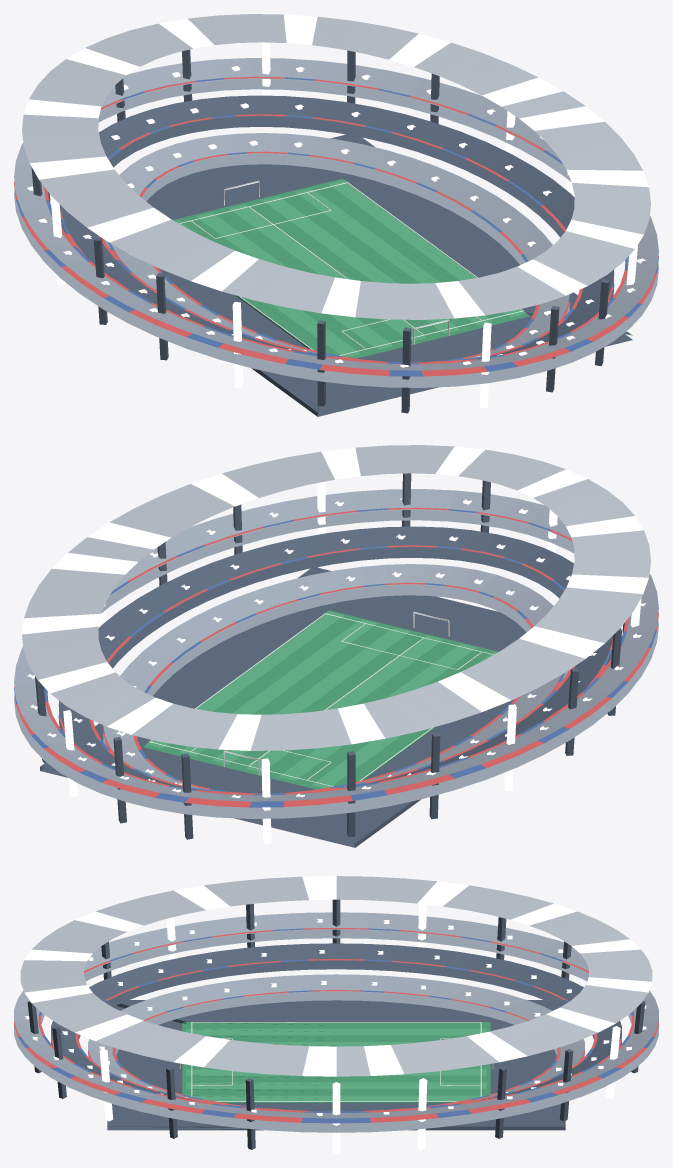
The model's file is parc-des-princes.glb.
3 renders of one model, top to bottom at view 1: azimuth 30°, elevation 25°; view 2: azimuth 150°, elevation 25°; view 3: azimuth 270°, elevation 25°, orthographic. The views are drawn at different scales.
Parts seen in each view (by area): view 1: Parc des Princes; view 2: Parc des Princes; view 3: Parc des Princes.
Boxes of the visible parts, x1,y1,x2,y2 form: Parc des Princes: [14, 14, 658, 416]; Parc des Princes: [14, 445, 658, 847]; Parc des Princes: [14, 876, 658, 1153].
Size of the model in its own units: 61.77 by 13.1 by 81.65.
